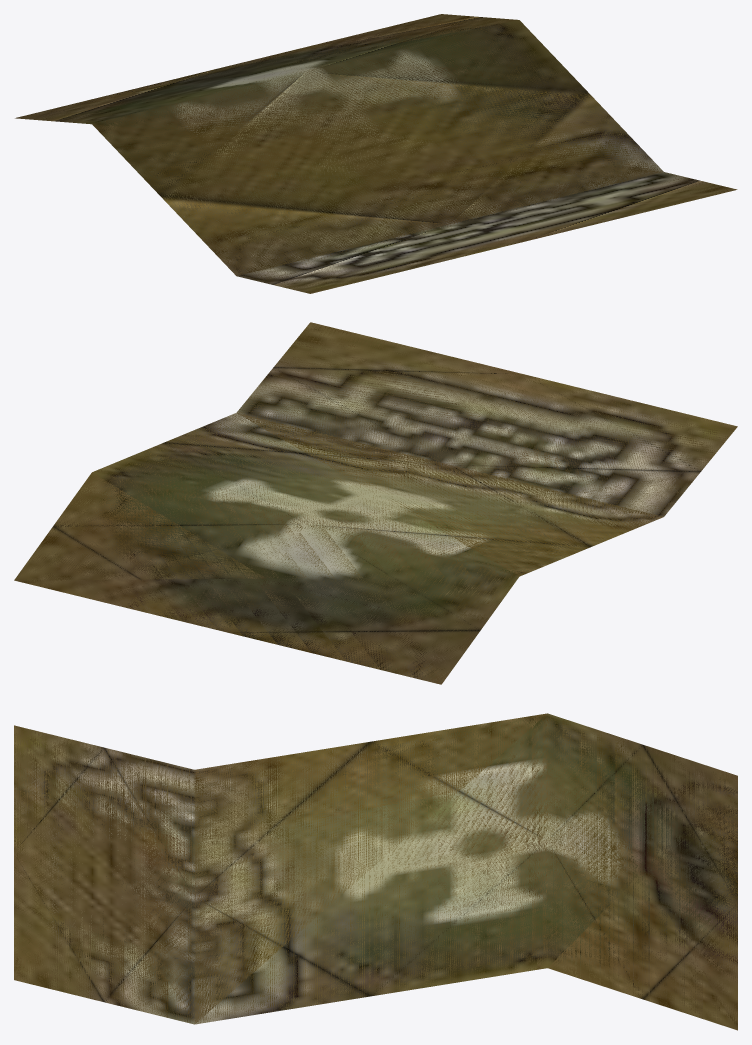
The model's file is ITSC_PALLIGHTHEAL.glb.
3 renders of one model, top to bottom at view 1: azimuth 30°, elevation 25°; view 2: azimuth 150°, elevation 25°; view 3: azimuth 270°, elevation 25°, orthographic. The views are drawn at different scales.
Parts seen in each view (by area): view 1: Mesh; view 2: Mesh; view 3: Mesh.
Part boxes in pixels (bbox=[...]): Mesh: bbox=[15, 14, 737, 293]; Mesh: bbox=[14, 322, 737, 684]; Mesh: bbox=[14, 713, 737, 1030].
Size of the model in its own units: 0.46 by 0.0525 by 0.5524.
1 material, 1 textured.
